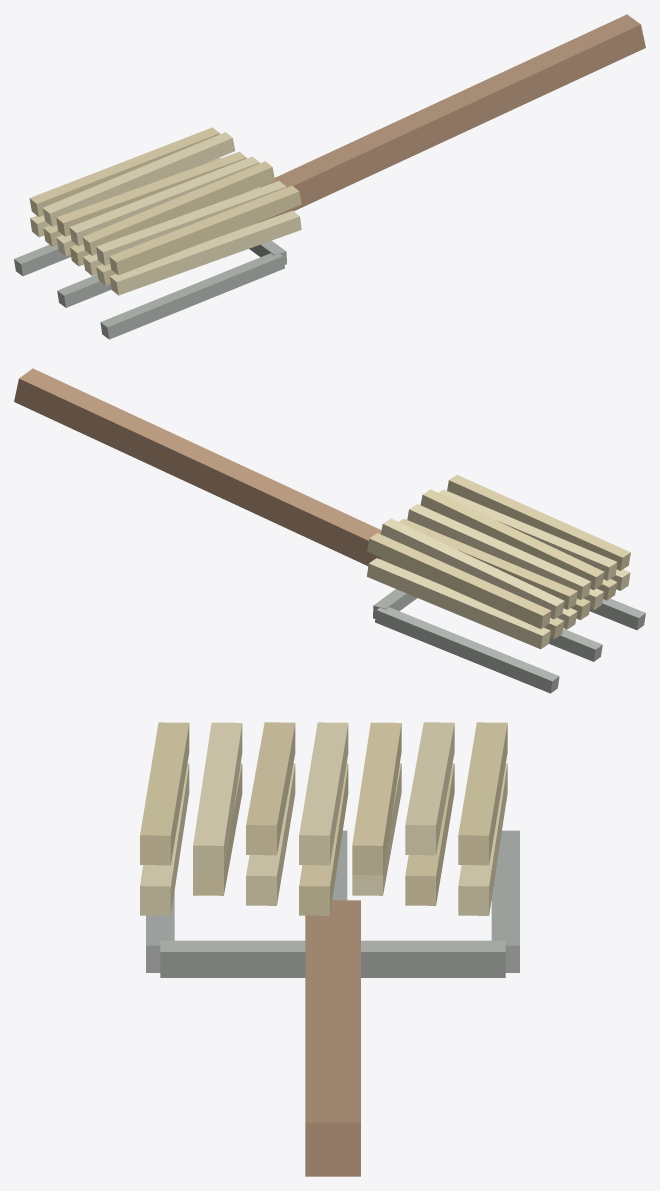
The model's file is crafted-tool-hay-fork-3.glb.
3 renders of one model, top to bottom at view 1: azimuth 30°, elevation 25°; view 2: azimuth 150°, elevation 25°; view 3: azimuth 270°, elevation 25°, orthographic. The views are drawn at different scales.
Visible parts, largest first — view 1: handle, hay-13, hay-6, tine-2, hay-8, hay-11, hay-10, hay-7, hay-9, hay-12, tine-1, tine; view 2: handle, hay-7, hay, tine, hay-8, hay-11, hay-13, hay-10, hay-9, hay-12, tine-1, tine-2 (+1 smaller); view 3: handle, fork-shoulder, hay-9, hay-12, hay-7, hay-10, hay-13, hay-8, hay-11, tine, hay, hay-3 (+7 smaller).
Part boxes in pixels (box(x1,y1,x2,y2)): handle: box(254, 14, 645, 224); hay-13: box(109, 185, 301, 275); hay-6: box(109, 210, 301, 295); tine-2: box(100, 253, 284, 339); hay-8: box(42, 132, 235, 226); hay-11: box(82, 161, 274, 255); hay-10: box(69, 156, 259, 246); hay-7: box(29, 127, 219, 216); hay-9: box(56, 151, 246, 236); hay-12: box(96, 181, 286, 265); tine-1: box(57, 274, 111, 307); tine: box(14, 244, 70, 276); handle: box(14, 368, 381, 565); hay-7: box(367, 533, 551, 628); hay: box(367, 558, 550, 649); tine: box(375, 607, 559, 693); hay-8: box(381, 518, 564, 619); hay-11: box(420, 489, 604, 590); hay-13: box(447, 475, 630, 570); hay-10: box(407, 504, 590, 599); hay-9: box(399, 518, 577, 609); hay-12: box(438, 489, 617, 580); tine-1: box(549, 628, 602, 661); tine-2: box(589, 598, 645, 630); handle: box(305, 900, 360, 1176); fork-shoulder: box(160, 940, 505, 977); hay-9: box(352, 722, 401, 875); hay-12: box(193, 722, 242, 875); hay-7: box(458, 722, 507, 865); hay-10: box(299, 722, 348, 865); hay-13: box(140, 722, 189, 865); hay-8: box(405, 722, 454, 855); hay-11: box(246, 722, 295, 855); tine: box(491, 830, 519, 972); hay: box(458, 763, 507, 915); hay-3: box(299, 763, 348, 915).
Size of the model in its own units: 1.08 by 0.2622 by 0.308.
